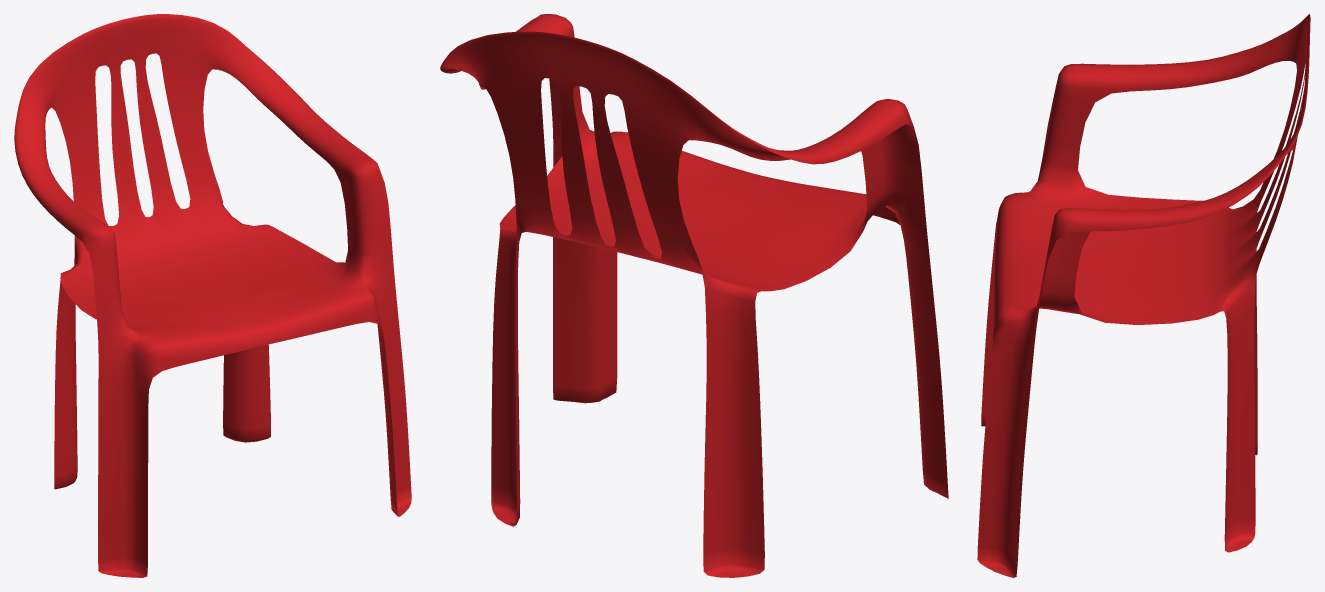
File: chair.glb
3 renders of one model, left to right at view 1: azimuth 30°, elevation 25°; view 2: azimuth 150°, elevation 25°; view 3: azimuth 270°, elevation 25°, orthographic. The views are drawn at different scales.
Visible parts, largest first — view 1: Plane; view 2: Plane; view 3: Plane.
Boxes of the visible parts, x1,y1,x2,y2 form: Plane: [14, 14, 411, 577]; Plane: [440, 14, 948, 577]; Plane: [977, 14, 1310, 577].
Bounding box in the file's own units: 2.17 × 2.79 × 1.83.
